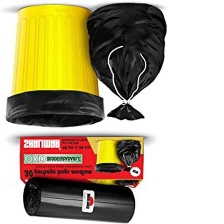plastic_bag: (82, 2, 187, 124), (20, 175, 141, 224), (1, 87, 108, 130), (115, 138, 144, 171), (91, 162, 128, 173)
